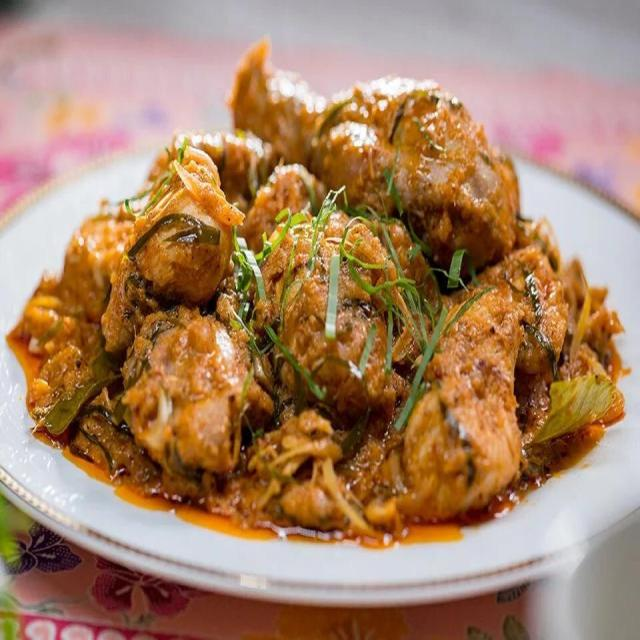Rendang: (18, 44, 632, 544)
